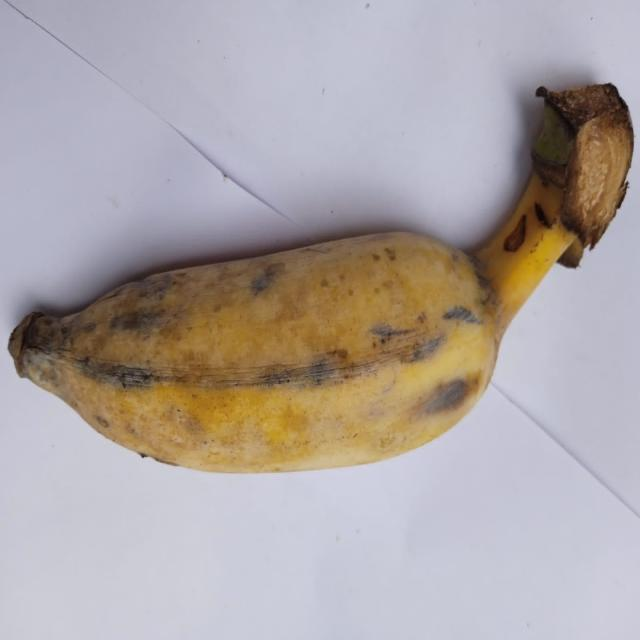banana: (10, 85, 632, 471)
